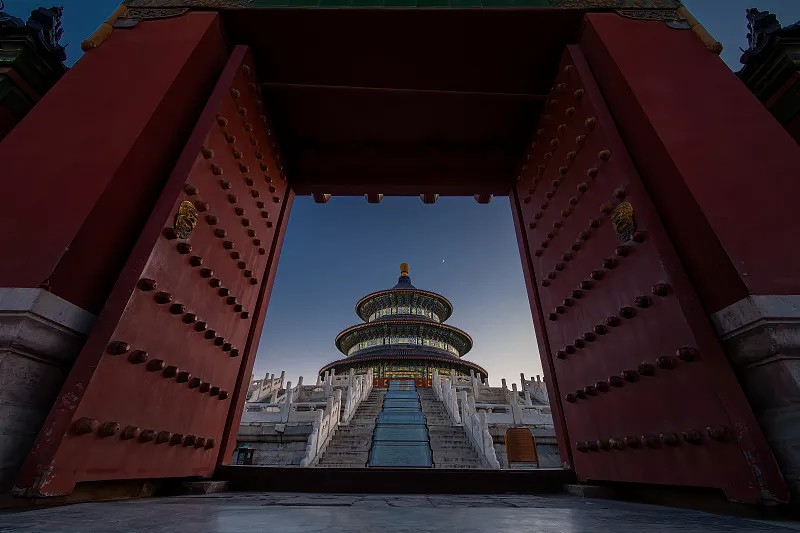Heaven: (317, 262, 489, 388)
